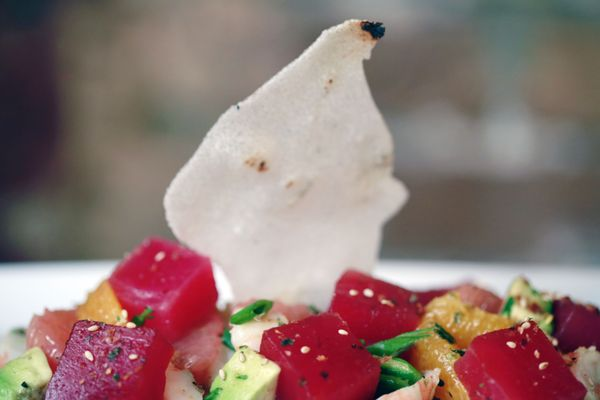sushi: (2, 6, 564, 394)
